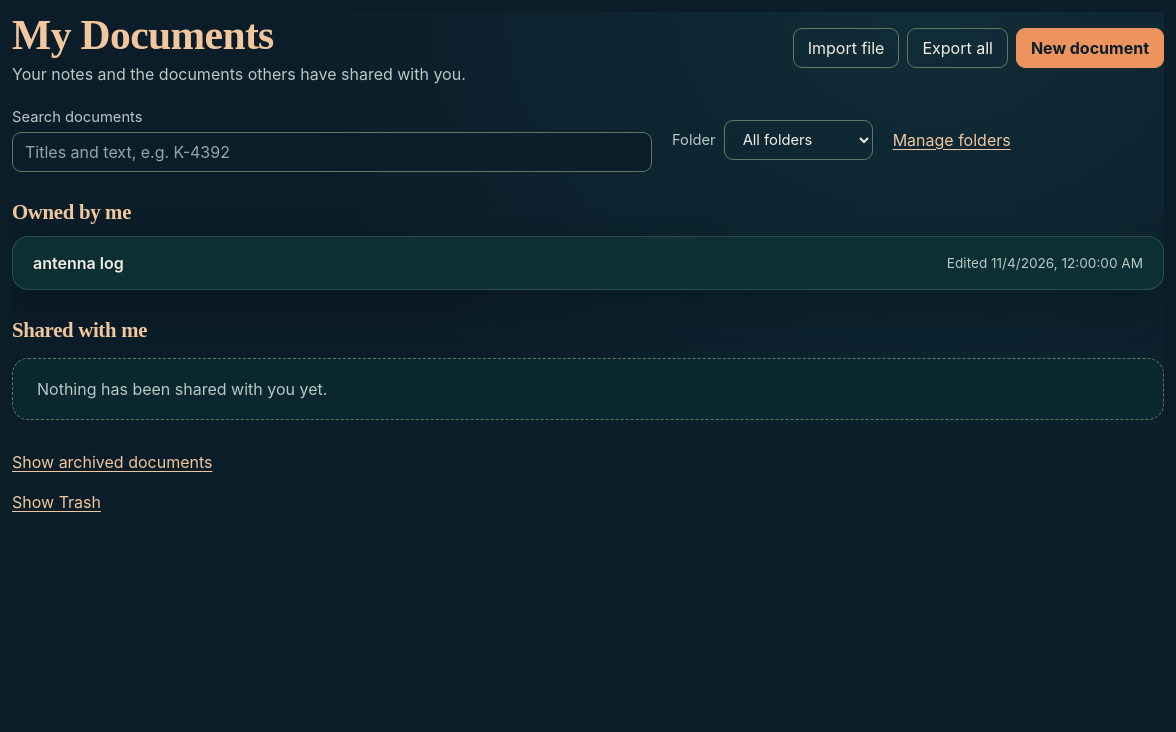
Test case: Search (DOC-017) › shows an empty state and clears with the Clear button
This screenshot has width=1176, height=732.
Type "zz top" into the search field labelled "Search documents".
click(332, 152); type("zz top")  # box [12, 132, 652, 172]
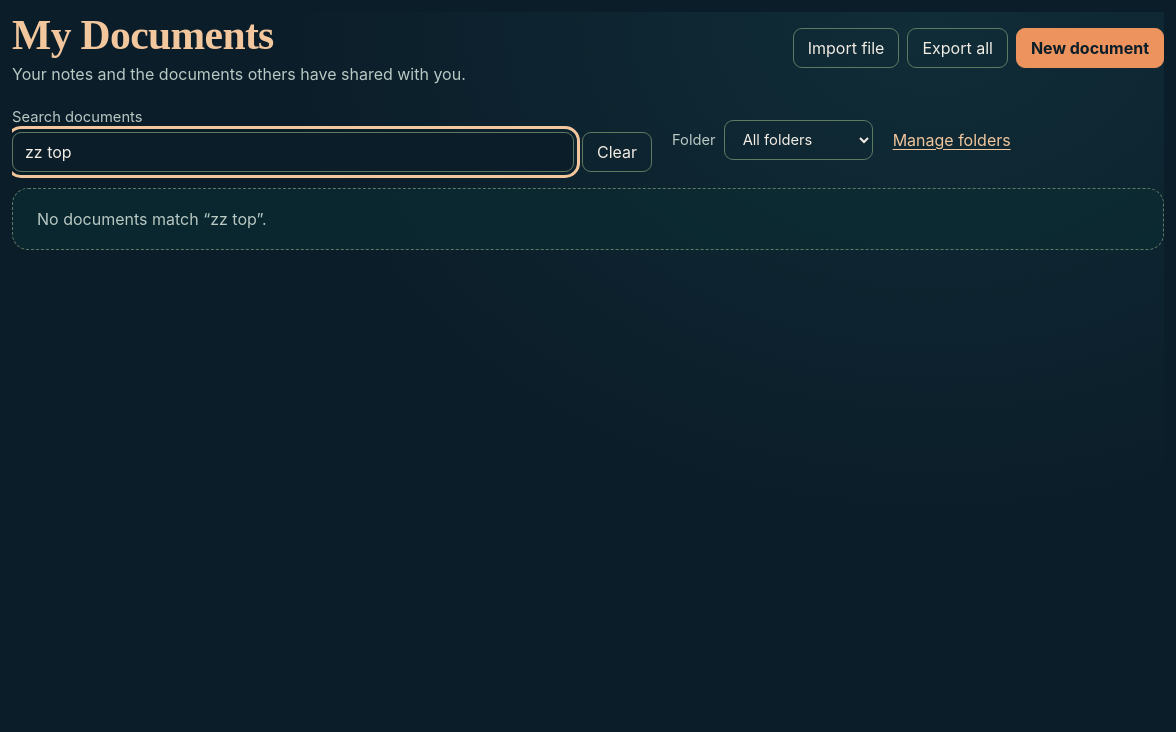
Click the button "Clear".
click(617, 152)  # box [582, 132, 652, 172]
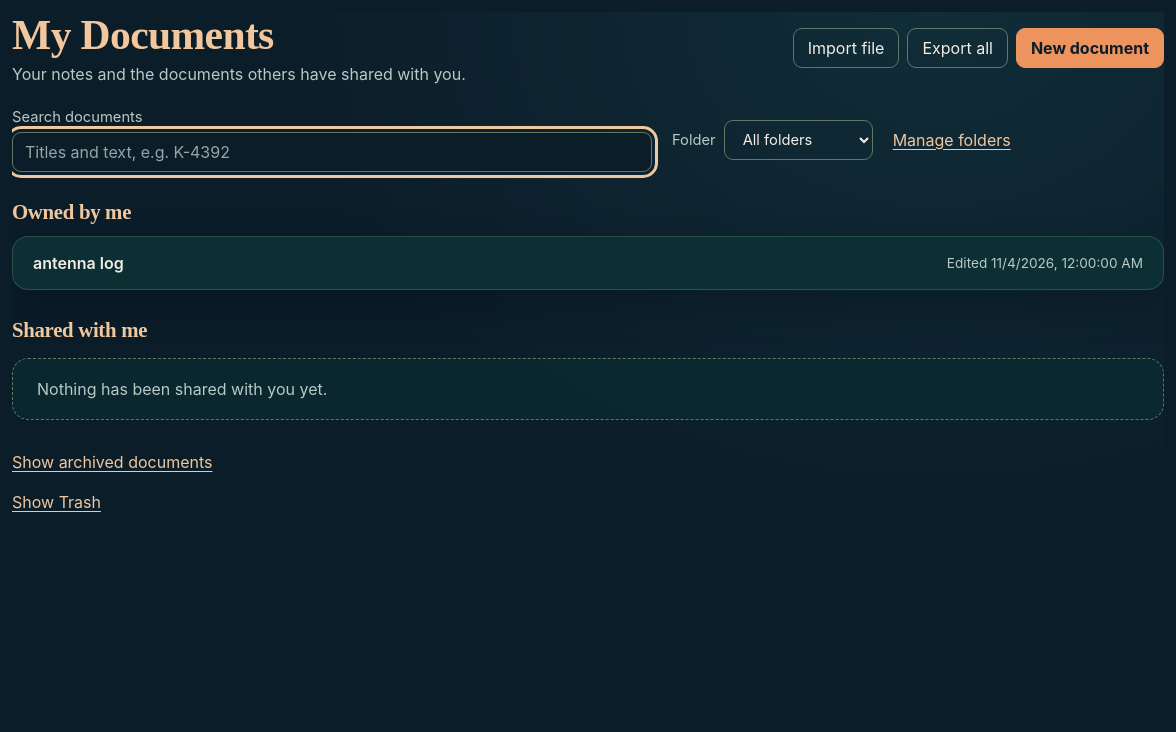
Result: the search field labelled "Search documents" is empty at [12, 132, 652, 172]
Result: the button "Clear" is gone
Result: the link "antenna log" is shown at [33, 253, 124, 273]
